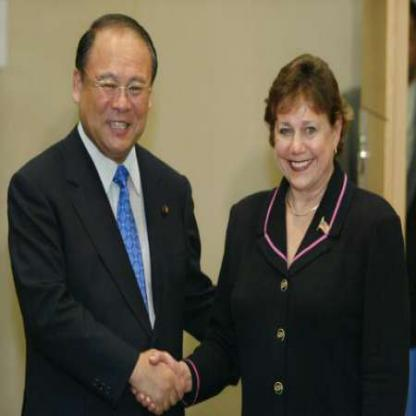face: (81, 22, 155, 156), (272, 68, 337, 193)
